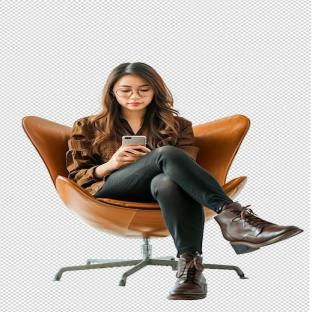Human: (66, 63, 302, 299)
